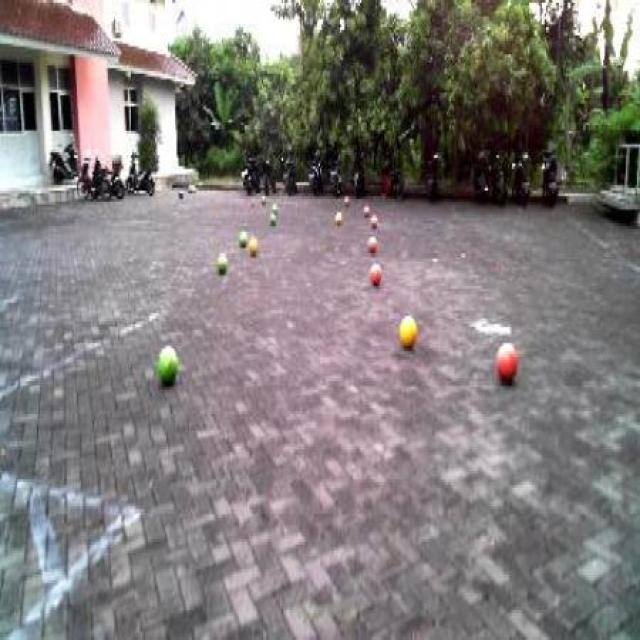buoy: (148, 334, 181, 393), (491, 332, 524, 389), (396, 306, 419, 350), (209, 240, 230, 281), (363, 256, 385, 286), (232, 220, 249, 250), (247, 232, 261, 256), (363, 230, 378, 252), (265, 206, 277, 226)
